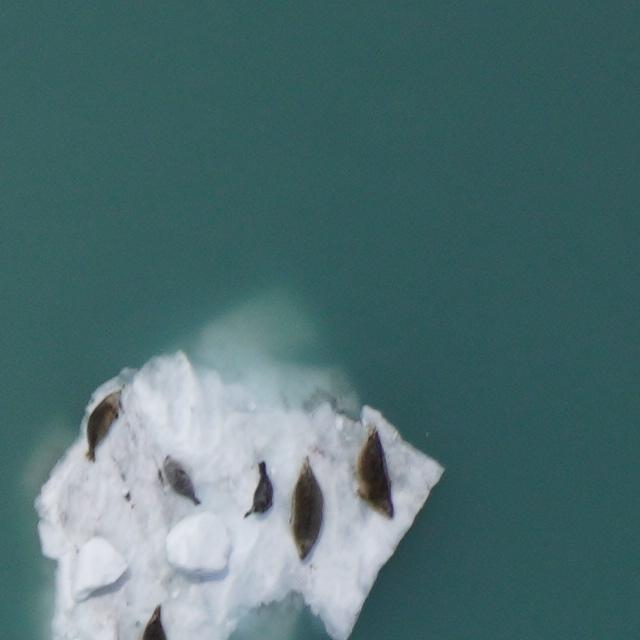seal: (280, 452, 334, 562), (69, 382, 131, 464), (349, 421, 396, 524), (157, 447, 204, 512), (242, 459, 278, 523), (134, 605, 169, 640)
